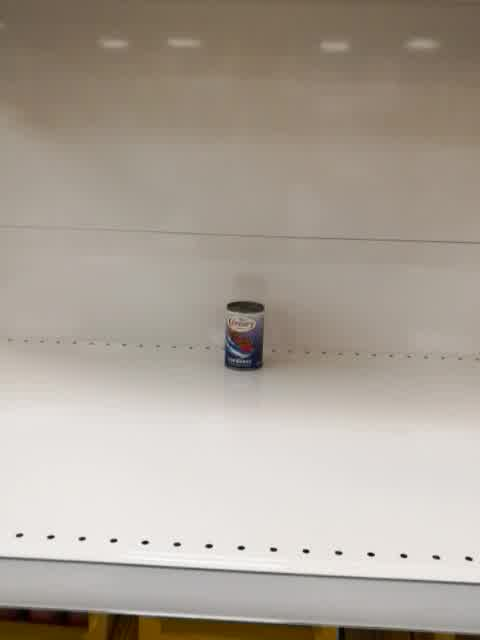sardine: (223, 300, 265, 371)
